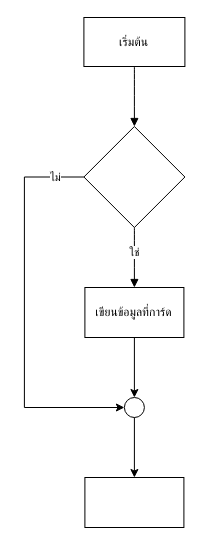
This 203x545 diagram has some shape labels left out. Each missing label, with the box of its shape:
สมาร์ทโฟน รองรับ NDEF: (83, 126, 185, 228)
สิ้นสุด: (84, 476, 184, 528)
